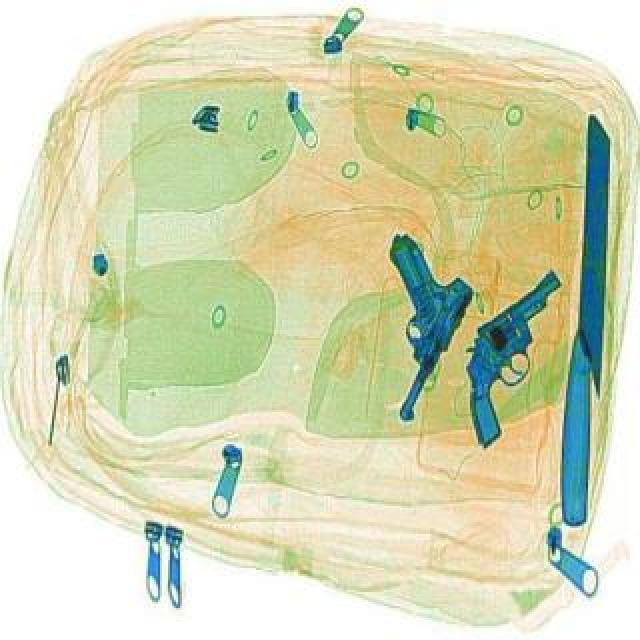gun: (414, 276, 616, 454), (318, 234, 490, 422)
knife: (560, 120, 610, 528)
